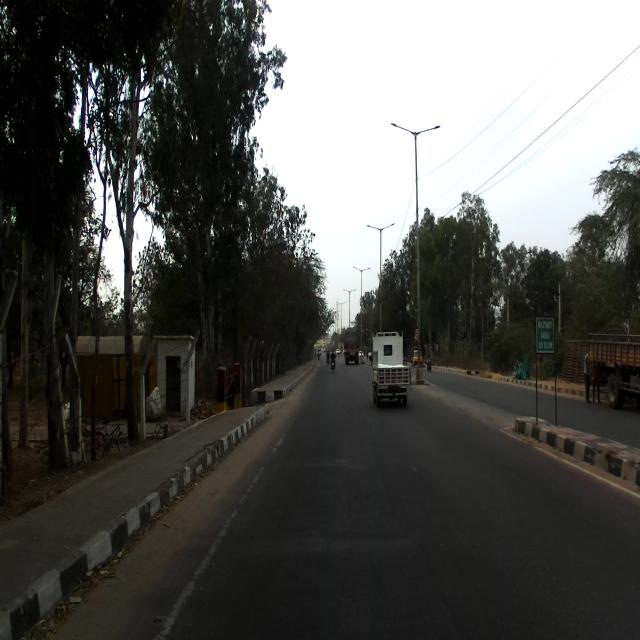tree ahead at: (102, 100, 152, 450), (37, 238, 76, 468)
truck ahead at: (370, 323, 409, 399)
